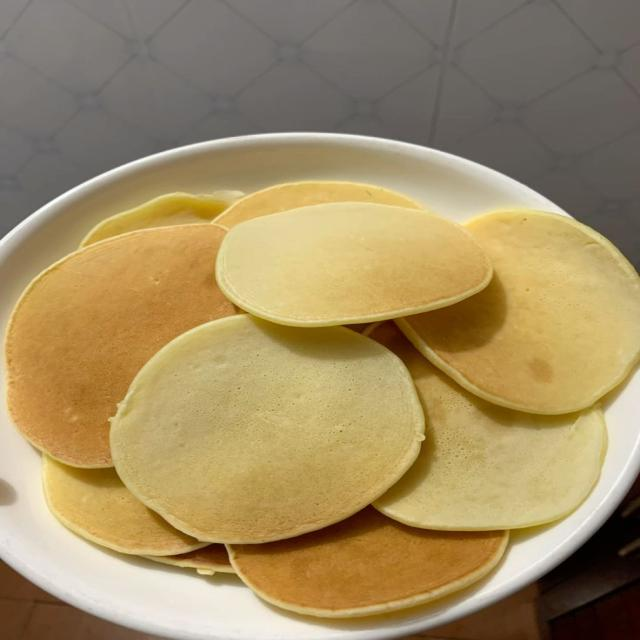pancake: (111, 315, 424, 543), (7, 224, 235, 467), (367, 322, 605, 529), (397, 211, 639, 414), (217, 203, 492, 326), (228, 507, 507, 617), (43, 456, 206, 555), (215, 181, 422, 228), (80, 191, 243, 247), (145, 544, 234, 574)
